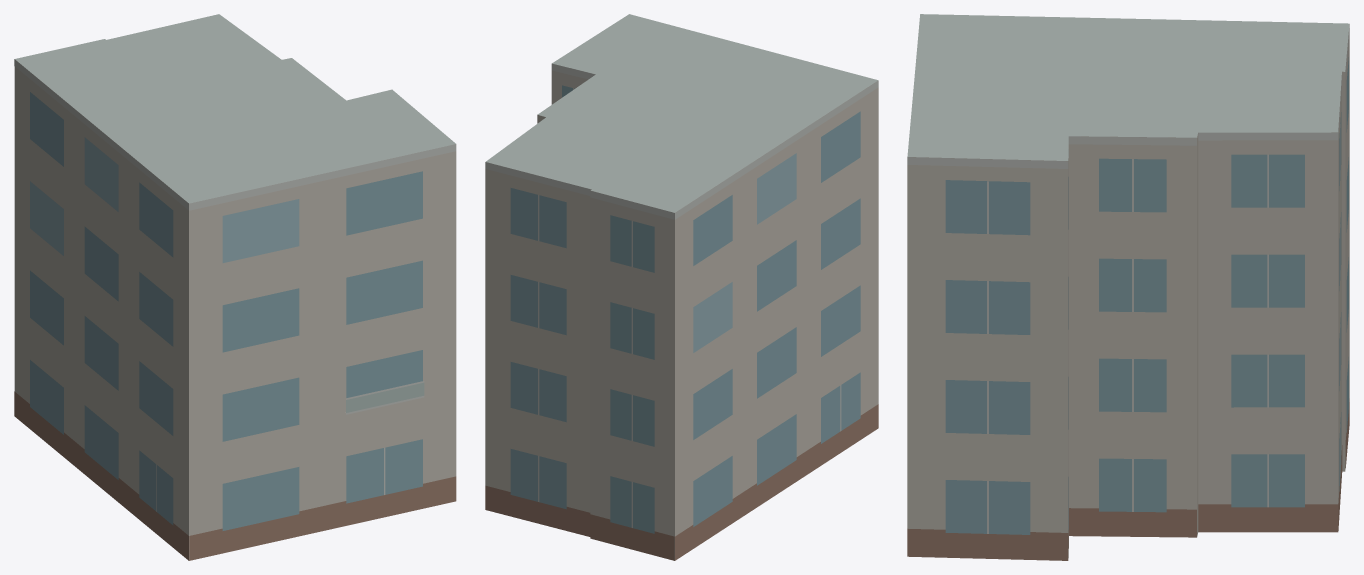
Rendered from survey-upis-32922197.glb.
3 renders of one model, left to right at view 1: azimuth 30°, elevation 25°; view 2: azimuth 150°, elevation 25°; view 3: azimuth 270°, elevation 25°, orthographic. The views are drawn at different scales.
Visible parts, largest first — view 1: survey-upis-32922197.tmp; view 2: survey-upis-32922197.tmp; view 3: survey-upis-32922197.tmp.
Part boxes in pixels (x1,y1,x2,y2): survey-upis-32922197.tmp: (14,14,456,560); survey-upis-32922197.tmp: (485,14,878,560); survey-upis-32922197.tmp: (907,14,1349,560).
Size of the model in its own units: 9.64 by 12.2 by 12.24.
